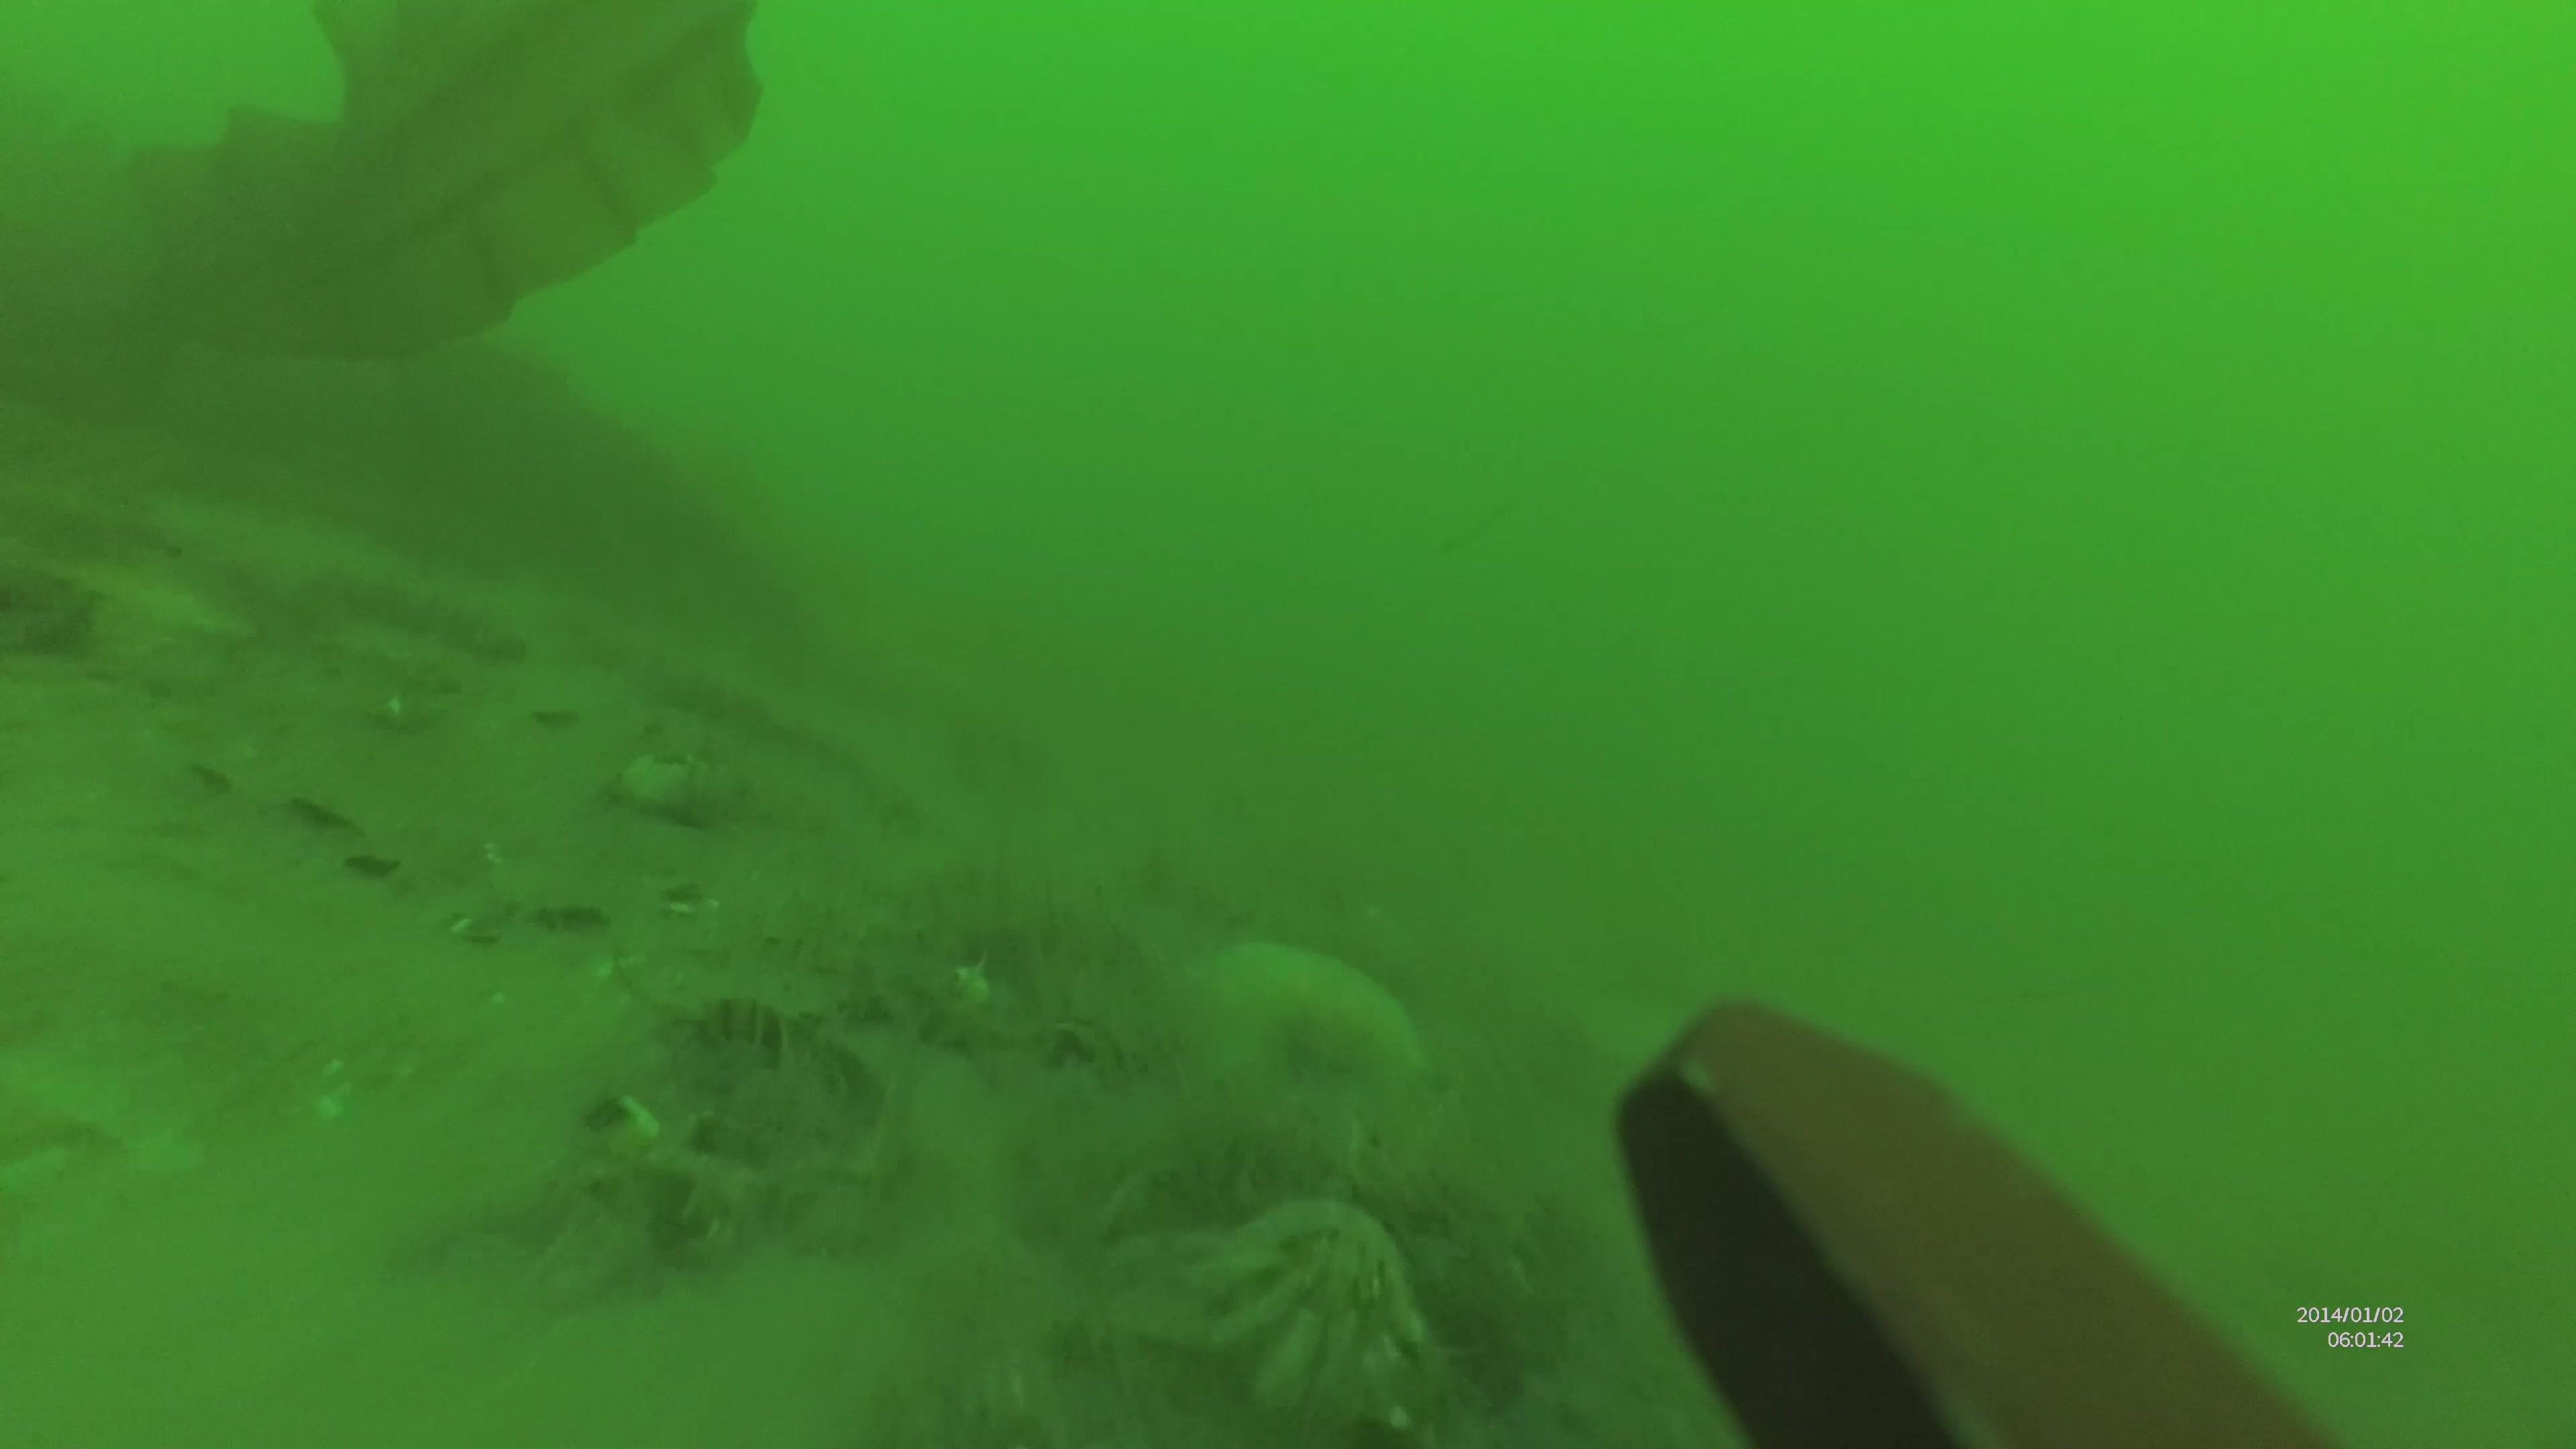starfish: (1207, 934, 1424, 1074)
